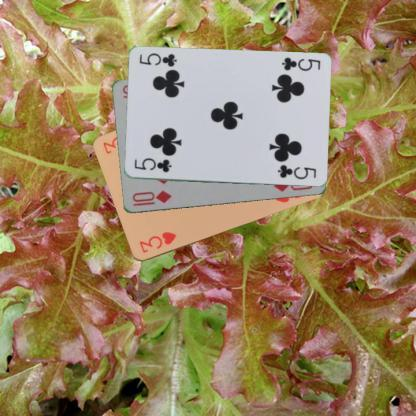10d: (130, 188, 172, 208)
3h: (136, 229, 178, 255)
5c: (132, 155, 172, 174), (279, 55, 321, 73)
